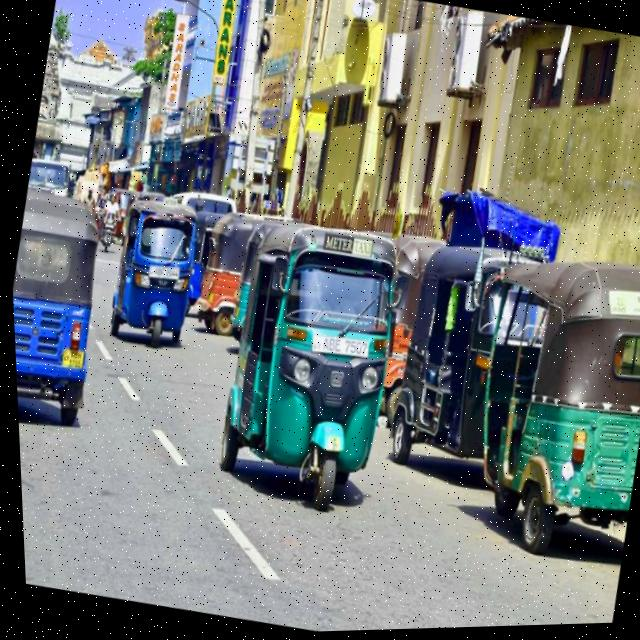cng: (199, 230, 404, 584), (432, 264, 640, 604), (372, 225, 546, 492), (7, 197, 120, 451), (89, 174, 215, 348)
